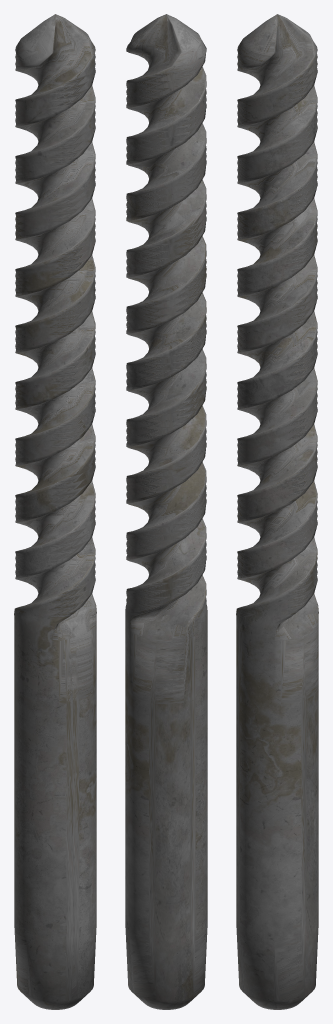
The model's file is scrw bit.glb.
The picture shows the model from 3 angles, left to right: view 1: azimuth 90°, elevation 25°; view 2: azimuth 210°, elevation 25°; view 3: azimuth 270°, elevation 25°; orthographic projection.
Parts seen in each view (by area): view 1: Circle; view 2: Circle; view 3: Circle.
Part boxes in pixels (x1,y1,x2,y2): Circle: [14, 14, 96, 1009]; Circle: [125, 14, 207, 1009]; Circle: [236, 14, 318, 1009].
Bounding box in the file's own units: 1.99 × 26.19 × 1.99.
1 material, 1 textured.
